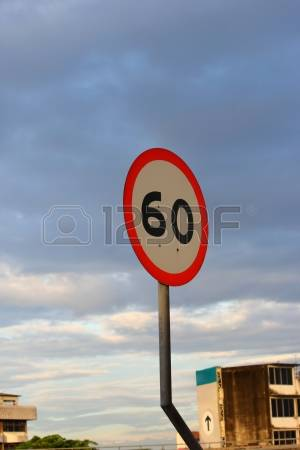Speed_limit_60km: (122, 144, 213, 288)
